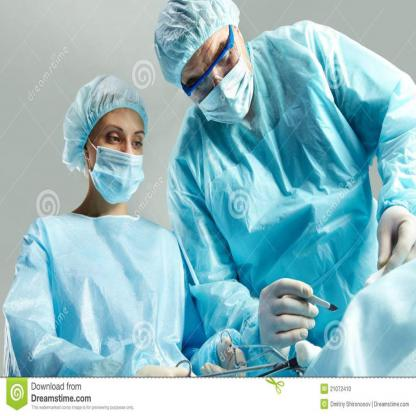face: (183, 27, 253, 127), (93, 109, 146, 191)
